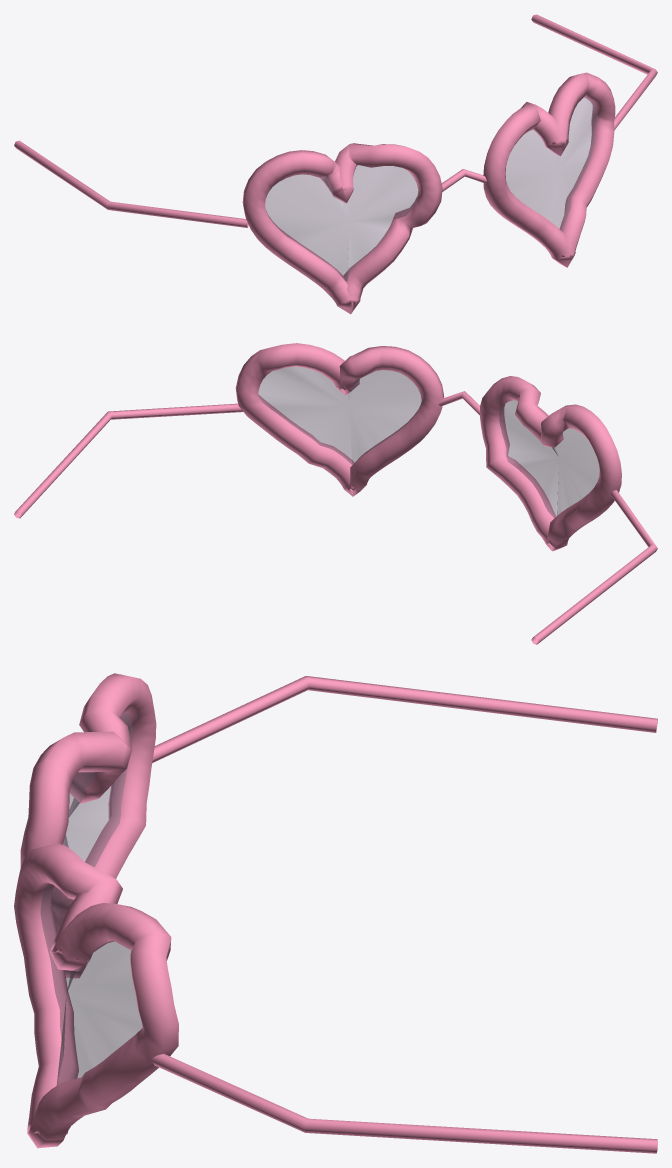
Rendered from restart_glasses_heart_chick.glb.
The picture shows the model from 3 angles, top to bottom: view 1: azimuth 30°, elevation 25°; view 2: azimuth 150°, elevation 25°; view 3: azimuth 270°, elevation 25°; orthographic projection. The views are drawn at different scales.
Visible parts, largest first — view 1: Montura.018, Montura.019, Lente ahumada.012, Lente ahumada.013, Patilla curva.018, Patilla curva.019; view 2: Montura.019, Montura.018, Lente ahumada.013, Lente ahumada.012, Patilla curva.019, Patilla curva.018; view 3: Montura.019, Montura.018, Lente ahumada.013, Patilla curva.019, Patilla curva.018, Lente ahumada.012.
Boxes of the visible parts, x1,y1,x2,y2 form: Montura.018: (242,143,442,314); Montura.019: (483,72,615,267); Lente ahumada.012: (265,164,418,281); Lente ahumada.013: (505,96,597,230); Patilla curva.018: (14,140,248,227); Patilla curva.019: (531,14,657,130); Montura.019: (235,343,444,496); Montura.018: (480,376,621,551); Lente ahumada.013: (258,366,421,464); Lente ahumada.012: (499,400,599,517); Patilla curva.019: (14,403,242,518); Patilla curva.018: (531,490,657,644); Montura.019: (14,843,178,1148); Montura.018: (20,673,156,978); Lente ahumada.013: (40,883,142,1085); Patilla curva.019: (151,1053,657,1153); Patilla curva.018: (152,676,657,762); Lente ahumada.012: (63,712,132,867).
Bounding box in the file's own units: 0.7273 × 0.2025 × 0.4413.
